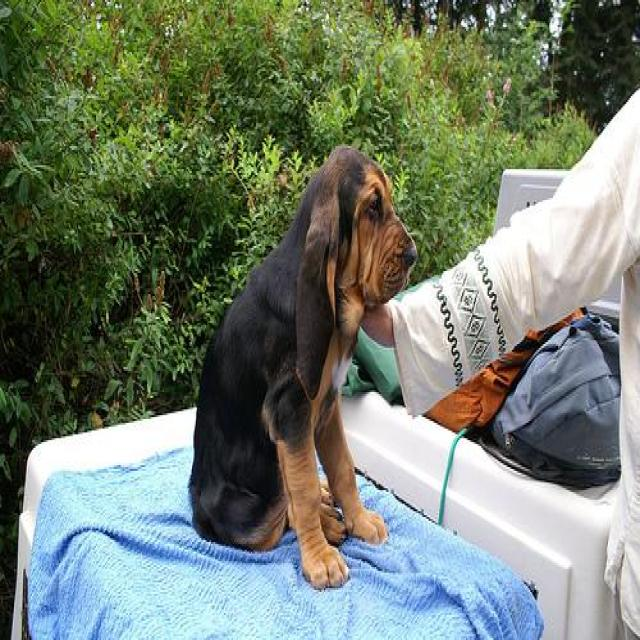bloodhound: (190, 144, 418, 590)
